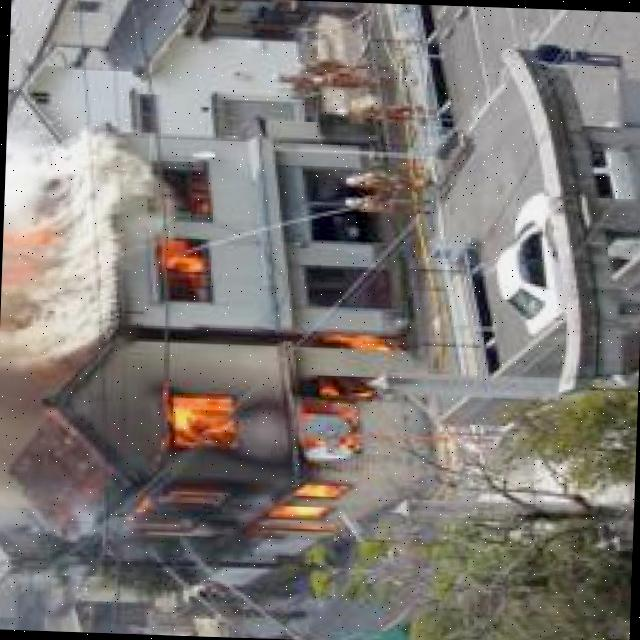fire: (114, 314, 404, 566), (161, 174, 215, 304), (0, 201, 60, 307)
